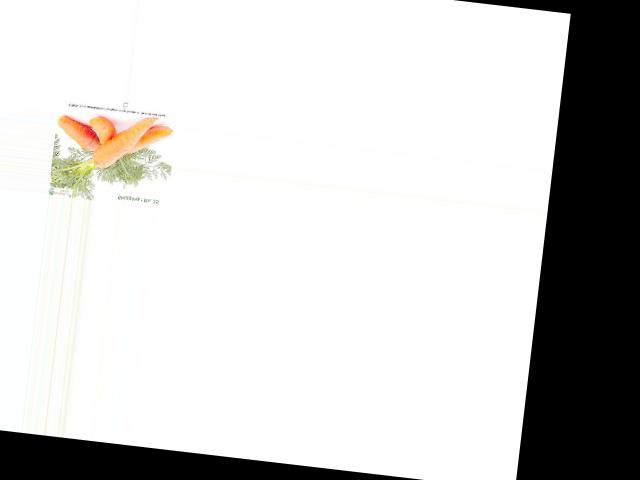carrot: (54, 114, 103, 156)
